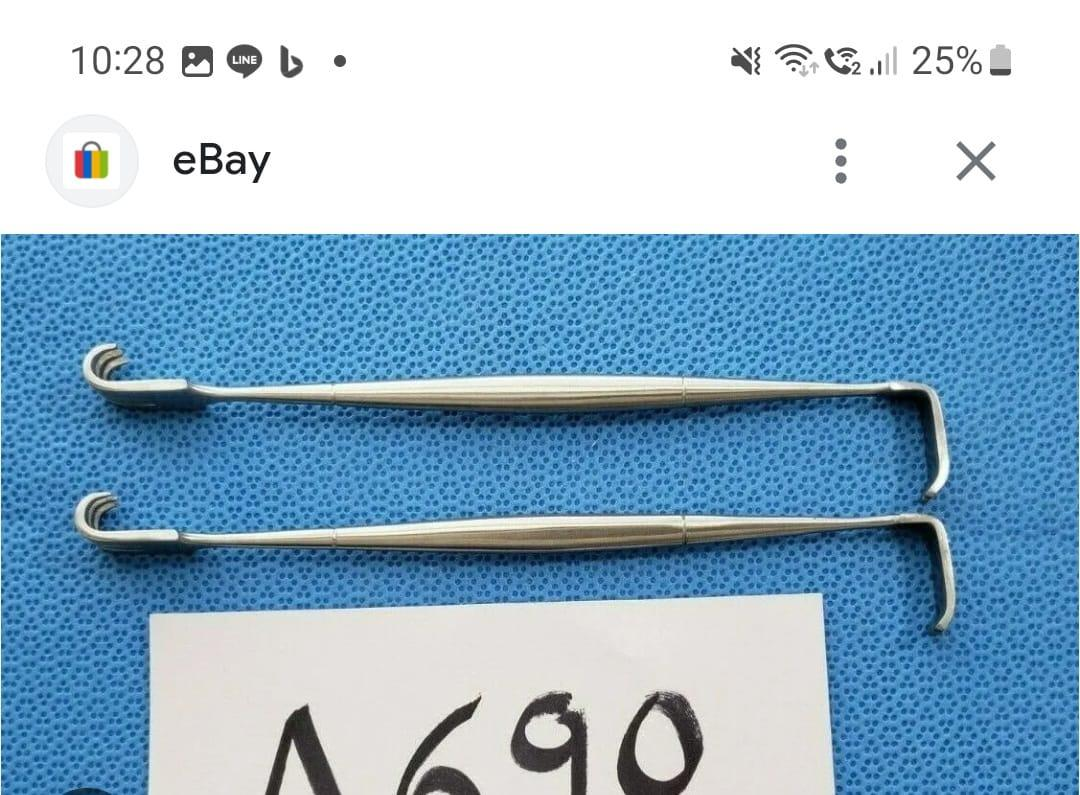Senn Retractor: (61, 461, 973, 649), (68, 312, 959, 502)
